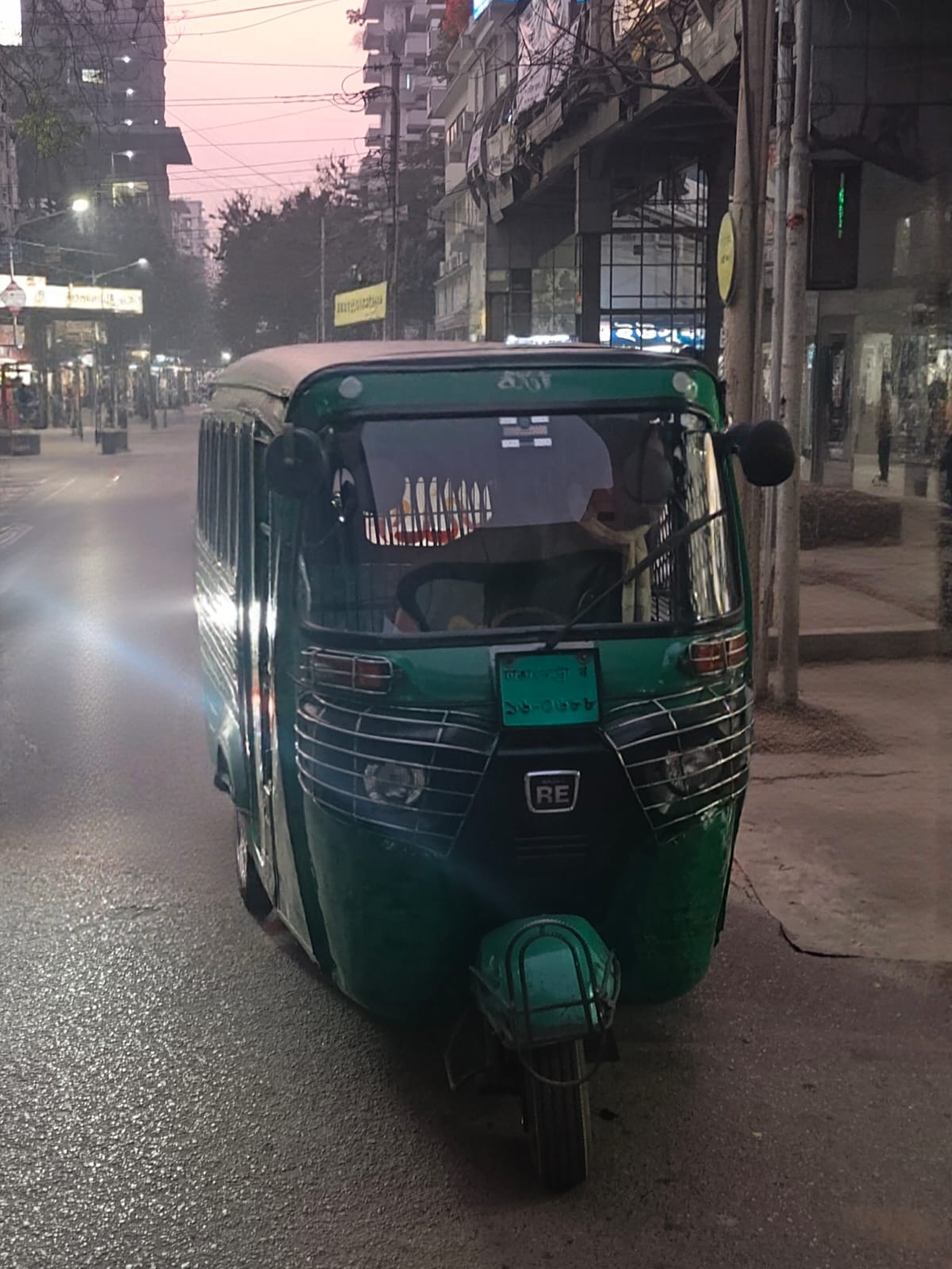cng: (151, 311, 822, 1152)
